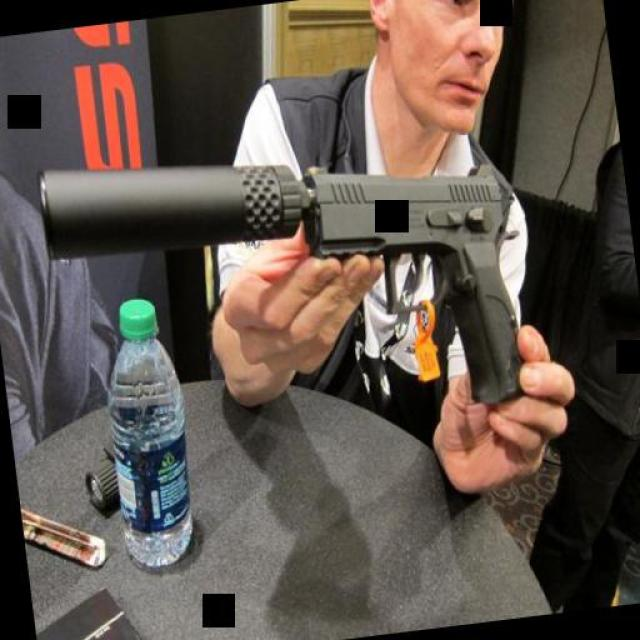gun: (292, 145, 538, 426)
